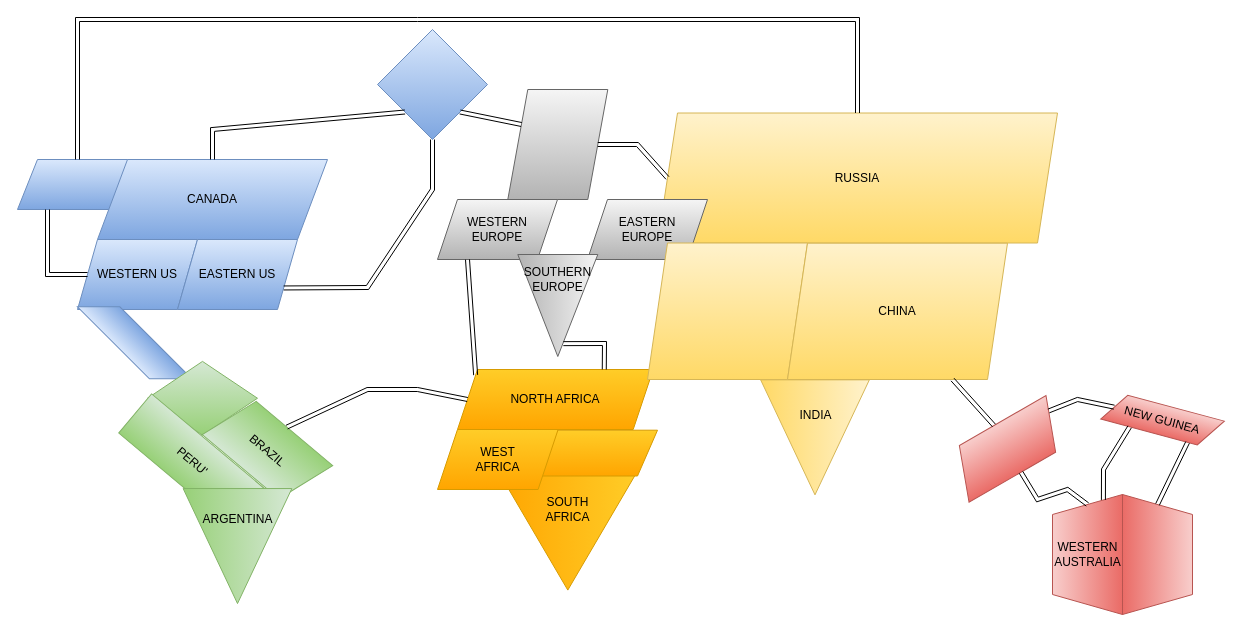
Some shapes in this 1242 by 632 pixel diagram are drawn without their labels. Here are the shapes that lost their labels. From the top down, the centre of each, then its label:
pixel 432 84: GREENLAND
pixel 557 144: NORTHERN EUROPE
pixel 77 184: ALASKA
pixel 727 311: MIDDLE EAST
pixel 134 342: MEXICO
pixel 202 397: VENEZUELA
pixel 597 452: EAST AFRICA
pixel 1007 448: INDONESIA
pixel 1157 554: EASTERN AUSTRALIA
